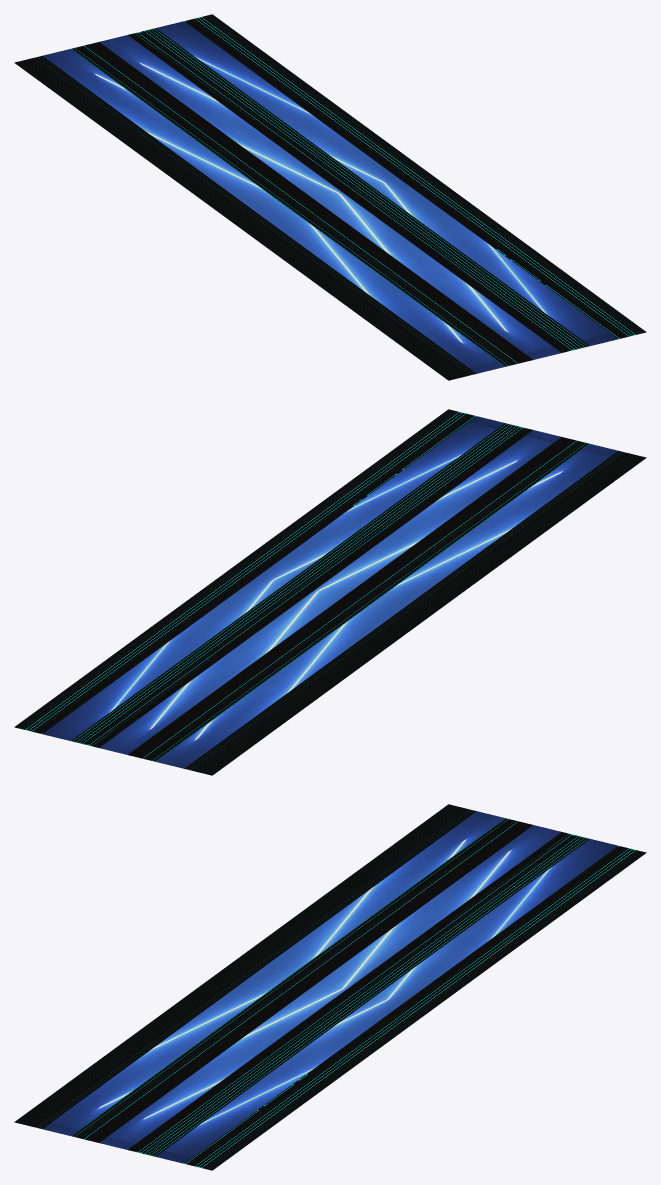
File: ROAD W. TEXTURE.fbx
The picture shows the model from 3 angles, top to bottom: view 1: azimuth 30°, elevation 25°; view 2: azimuth 150°, elevation 25°; view 3: azimuth 330°, elevation 25°; orthographic projection.
Visible parts, largest first — view 1: polySurface4; view 2: polySurface4; view 3: polySurface4.
Boxes of the visible parts, x1,y1,x2,y2 form: polySurface4: (14, 14, 646, 380); polySurface4: (14, 409, 646, 775); polySurface4: (14, 804, 646, 1170).
Size of the model in its own units: 15.16 by 5.96e-08 by 57.49.
